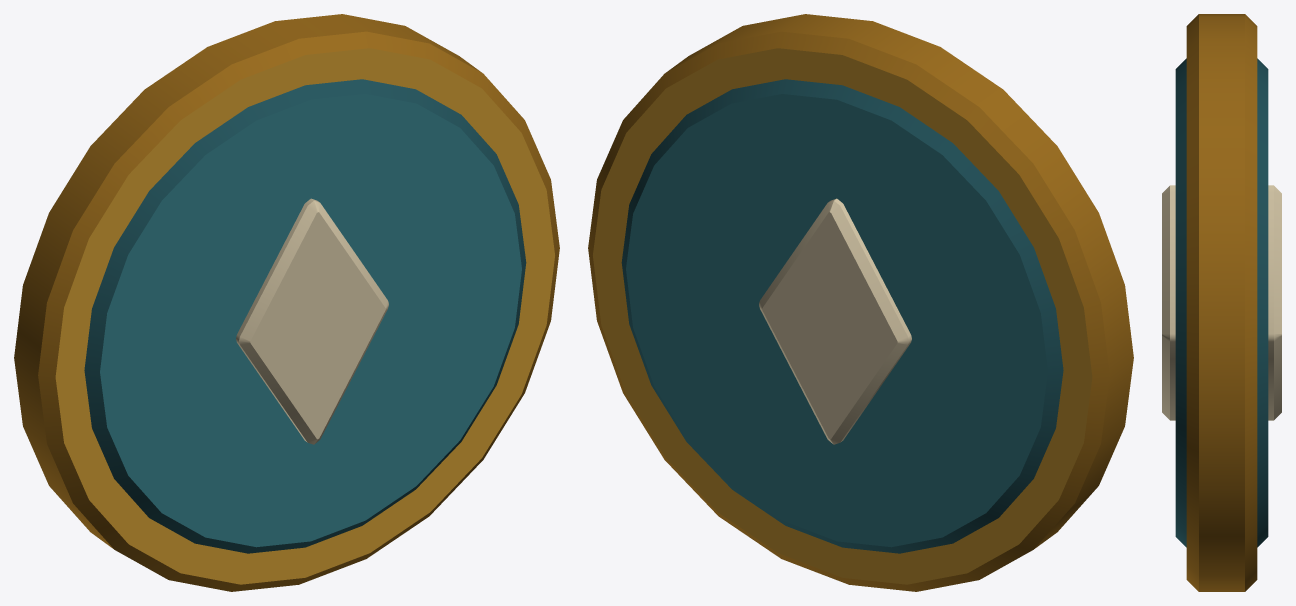
File: Badge_31.glb
3 renders of one model, left to right at view 1: azimuth 30°, elevation 25°; view 2: azimuth 150°, elevation 25°; view 3: azimuth 270°, elevation 25°, orthographic. The views are drawn at different scales.
Visible parts, largest first — view 1: Badge_31; view 2: Badge_31; view 3: Badge_31.
Boxes of the visible parts, bbox=[...] form: Badge_31: bbox=[14, 14, 559, 591]; Badge_31: bbox=[588, 14, 1133, 591]; Badge_31: bbox=[1162, 14, 1281, 591].
Bounding box in the file's own units: 2.13 × 2.13 × 0.44.
